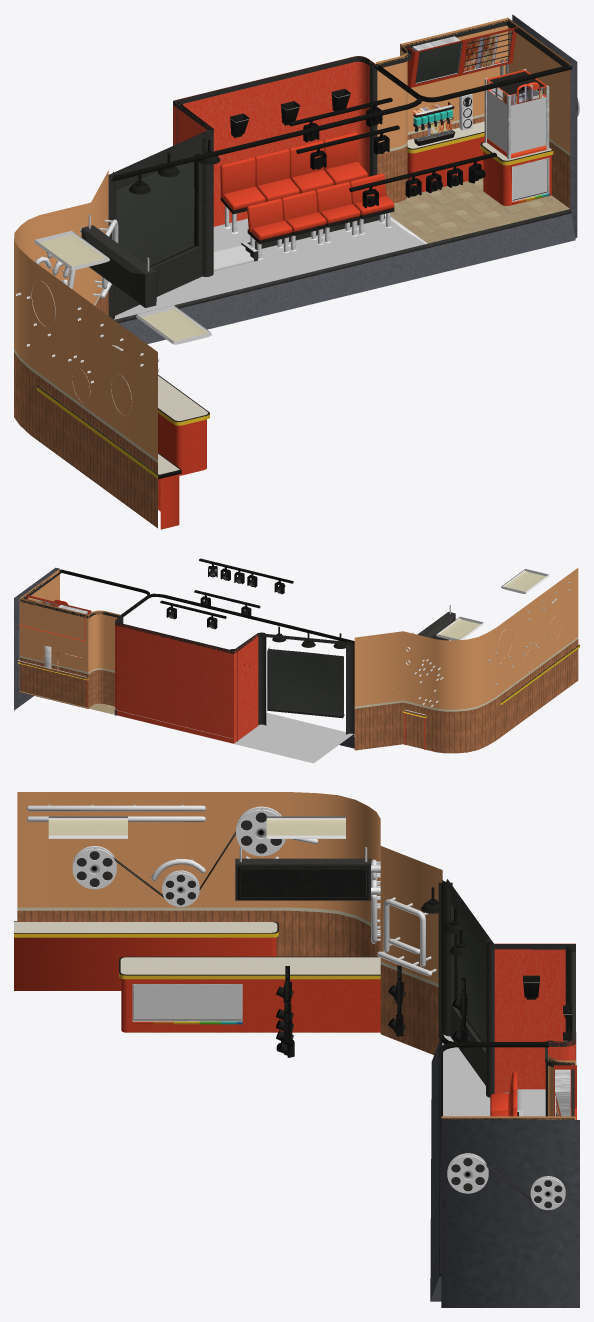
The model's file is FNaF1MovieStage.fbx.
3 views of the same model, one above another, from view 1: azimuth 30°, elevation 25°; view 2: azimuth 150°, elevation 25°; view 3: azimuth 270°, elevation 25° (orthographic). The views are drawn at different scales.
Parts seen in each view (by area): view 1: NonBaked.065, NonBaked.071, NonBaked.066, NonBaked.072, Cylinder.030, NonBaked.016, Cylinder.027, Cylinder.028, Circle.023, Cube.005, Cylinder.029, NonBaked.017 (+7 smaller); view 2: NonBaked.065, NonBaked.071, NonBaked.072, Circle.023, Circle.079, NonBaked.019, NonBaked.018, Cube.005, Circle.025, Circle.012, NonBaked.017; view 3: NonBaked.065, NonBaked.071, NonBaked.016, NonBaked.017, Cube.005, NonBaked.021, NonBaked.066, NonBaked.072, Circle.023, NonBaked.018, NonBaked.019, Circle.028 (+7 smaller).
Part boxes in pixels (x1,y1,x2,y2): NonBaked.065: [108, 14, 577, 319]; NonBaked.071: [14, 170, 157, 528]; NonBaked.066: [114, 209, 575, 344]; NonBaked.072: [116, 156, 194, 265]; Cylinder.030: [220, 132, 358, 197]; NonBaked.016: [158, 375, 209, 475]; Cylinder.027: [247, 195, 394, 259]; Cylinder.028: [247, 173, 386, 232]; Circle.023: [110, 64, 572, 181]; Cube.005: [80, 214, 156, 307]; Cylinder.029: [220, 161, 367, 233]; NonBaked.017: [36, 385, 181, 529]; NonBaked.065: [14, 567, 354, 763]; NonBaked.071: [354, 568, 578, 753]; NonBaked.072: [268, 649, 343, 716]; Circle.023: [59, 569, 354, 643]; Circle.079: [199, 558, 293, 594]; NonBaked.019: [501, 569, 549, 593]; NonBaked.018: [435, 616, 484, 640]; Cube.005: [406, 605, 455, 664]; Circle.025: [160, 600, 226, 629]; Circle.012: [194, 590, 260, 618]; NonBaked.017: [500, 644, 579, 704]; NonBaked.065: [440, 879, 579, 1307]; NonBaked.071: [17, 792, 442, 1054]; NonBaked.016: [119, 956, 380, 1032]; NonBaked.017: [14, 921, 278, 990]; Cube.005: [235, 847, 380, 900]; NonBaked.021: [27, 804, 436, 976]; NonBaked.066: [430, 1039, 442, 1301]; NonBaked.072: [457, 914, 485, 1041]; Circle.023: [438, 882, 548, 1122]; NonBaked.018: [266, 816, 345, 838]; NonBaked.019: [48, 816, 127, 838]; Circle.028: [236, 806, 285, 856].
Size of the model in its own units: 905 by 251 by 664.
